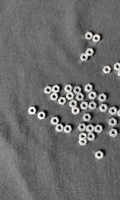nut: (95, 125, 104, 134), (109, 118, 118, 127), (96, 151, 104, 160), (110, 129, 118, 138), (87, 133, 96, 141), (79, 133, 88, 141), (51, 117, 60, 125), (78, 124, 87, 132), (83, 114, 92, 122), (28, 107, 37, 115), (58, 97, 67, 105), (89, 92, 98, 100), (76, 93, 85, 101), (50, 93, 59, 101), (85, 84, 93, 93), (74, 86, 82, 95), (44, 86, 53, 94), (81, 53, 89, 62), (93, 34, 101, 43), (64, 125, 72, 133), (56, 124, 64, 132), (87, 125, 95, 133), (38, 112, 46, 120), (72, 107, 80, 115), (110, 107, 118, 115), (89, 102, 97, 110), (81, 102, 89, 110), (70, 100, 78, 108), (99, 94, 107, 102), (67, 92, 75, 100), (65, 85, 73, 93), (52, 85, 60, 93), (104, 66, 112, 74), (85, 32, 93, 40), (100, 105, 109, 112), (86, 49, 95, 56), (79, 140, 88, 146), (115, 63, 120, 71), (118, 109, 120, 117), (119, 69, 120, 78)
